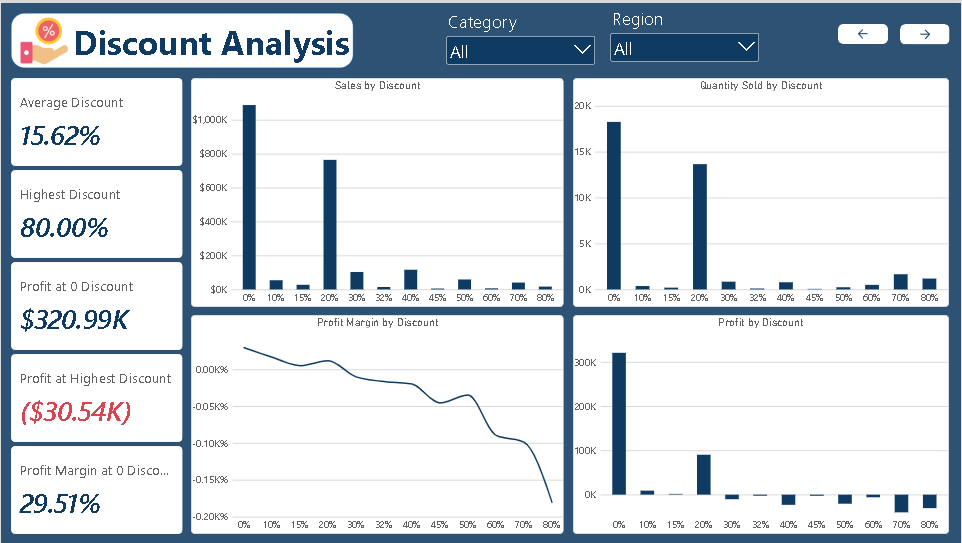

This screenshot's page, from the dashboard's own definition file:
{"tool":"powerbi","page":{"name":"Discount Analysis","canvas":[1920,1080],"ordinal":3},"visuals":[{"type":"shape","box":[19.4,19.4,684.7,110.2],"z":0},{"type":"actionButton","box":[1674,41,100,40],"z":1},{"type":"actionButton","box":[1797.1,41,99.4,41],"z":2},{"type":"image","box":[34.6,28.1,105.8,95],"z":3},{"type":"cardVisual","fields":{"Data":["Superstore_Cleaned.Average Discount","Superstore_Cleaned.Highest Discount","Superstore_Cleaned.Profit at 0 Discount","Superstore_Cleaned.Profit at Highest Discount","Superstore_Cleaned.Profit Margin at 0 Discount"]},"box":[19.4,149,343.4,913.7],"z":4},{"type":"clusteredColumnChart","title":"Sales by Discount","fields":{"Category":["Superstore_Cleaned.Discount"],"Y":["Superstore_Cleaned.Total Sales"]},"box":[380.2,149,745.2,457.9],"z":5},{"type":"clusteredColumnChart","title":"Profit by Discount","fields":{"Category":["Superstore_Cleaned.Discount"],"Y":["Superstore_Cleaned.Total Profit"]},"box":[1144.8,624.2,751.7,438.5],"z":6},{"type":"lineChart","fields":{"Category":["Superstore_Cleaned.Discount"],"Y":["Superstore_Cleaned.Profit Margin"]},"box":[380.2,624.2,745.2,438.5],"z":7},{"type":"clusteredColumnChart","title":"Quantity Sold by Discount","fields":{"Category":["Superstore_Cleaned.Discount"],"Y":["Sum(Superstore_Cleaned.Quantity)"]},"box":[1144.8,149,751.7,457.9],"z":8},{"type":"slicer","fields":{"Values":["Superstore_Cleaned.Category"]},"box":[885.6,13,306.7,116.6],"z":9},{"type":"slicer","fields":{"Values":["Superstore_Cleaned.Region"]},"box":[1213.9,6.5,306.7,116.6],"z":10}]}

Visuals, with their boxes in screenshot pixels (x1, y1, x2, y2), scaled from the page's 1920x1080 canvas onto the 962x543 screenshot:
shape: box=[10, 10, 353, 65]
actionButton: box=[839, 21, 889, 41]
actionButton: box=[900, 21, 950, 41]
image: box=[17, 14, 70, 62]
cardVisual - Superstore_Cleaned.Average Discount x Superstore_Cleaned.Highest Discount: box=[10, 75, 182, 534]
"Sales by Discount" clusteredColumnChart: box=[190, 75, 564, 305]
"Profit by Discount" clusteredColumnChart: box=[574, 314, 950, 534]
lineChart - Superstore_Cleaned.Discount x Superstore_Cleaned.Profit Margin: box=[190, 314, 564, 534]
"Quantity Sold by Discount" clusteredColumnChart: box=[574, 75, 950, 305]
slicer - Superstore_Cleaned.Category: box=[444, 7, 597, 65]
slicer - Superstore_Cleaned.Region: box=[608, 3, 762, 62]
